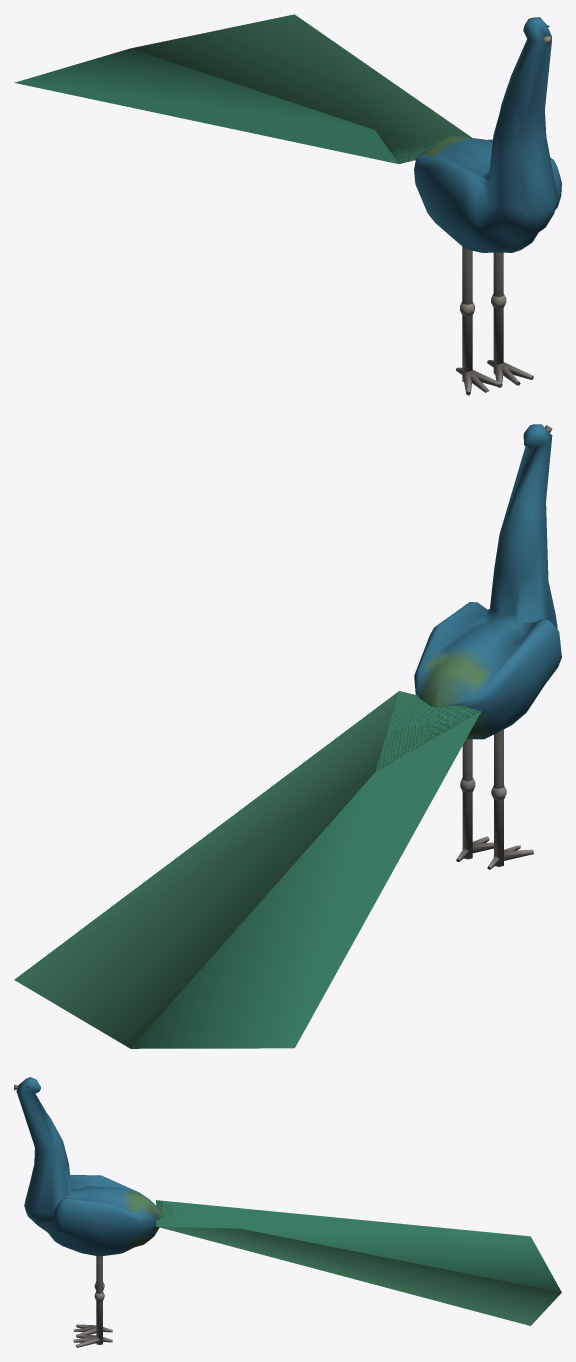
The model's file is pfau.glb.
3 renders of one model, top to bottom at view 1: azimuth 30°, elevation 25°; view 2: azimuth 150°, elevation 25°; view 3: azimuth 270°, elevation 25°, orthographic. The views are drawn at different scales.
Parts seen in each view (by area): view 1: lack; view 2: lack; view 3: lack.
Boxes of the visible parts, x1=… form: lack: x1=14, y1=14, x2=561, y2=395; lack: x1=14, y1=424, x2=561, y2=1048; lack: x1=14, y1=1077, x2=561, y2=1347.
Bounding box in the file's own units: 0.68 × 0.9175 × 1.75.
